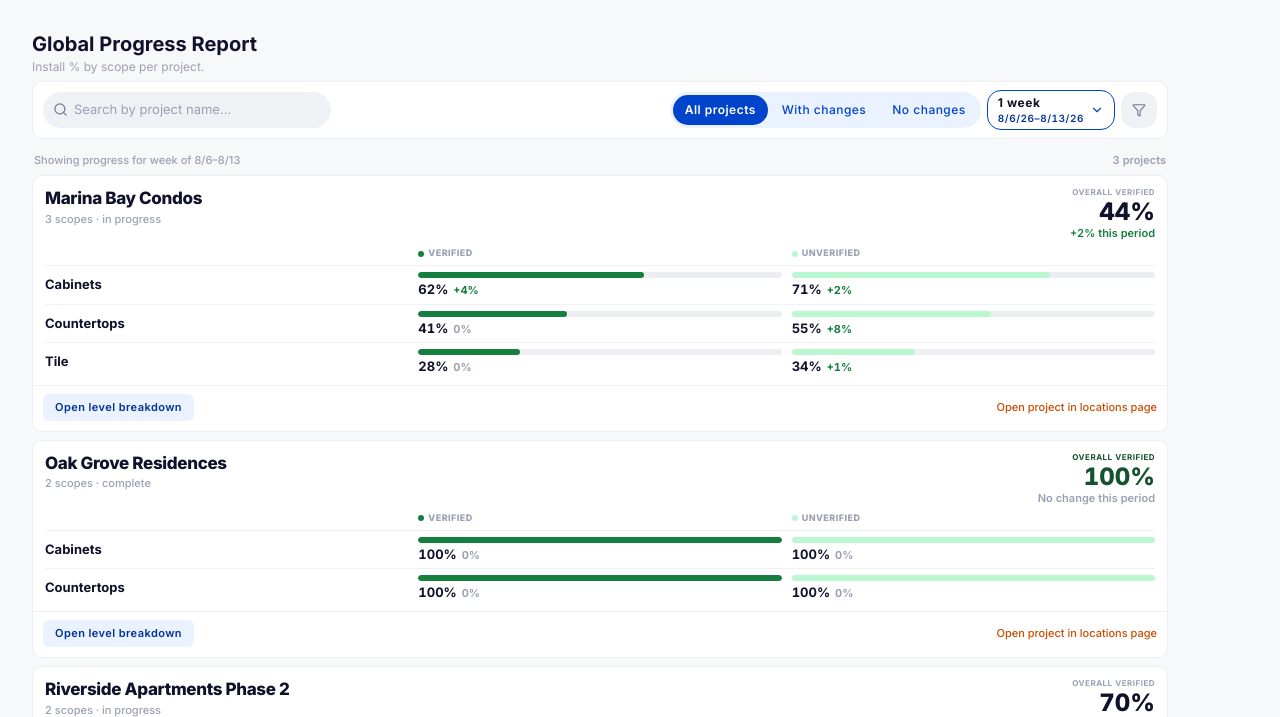
Test case: PortfolioProgressWireframe › clears search with the clear button
Expected: the heading "Marina Bay Condos" is shown, [45,188,202,208]
Type "marina" into the search field named "Search projects" at (196, 110), box [74,100,319,120]
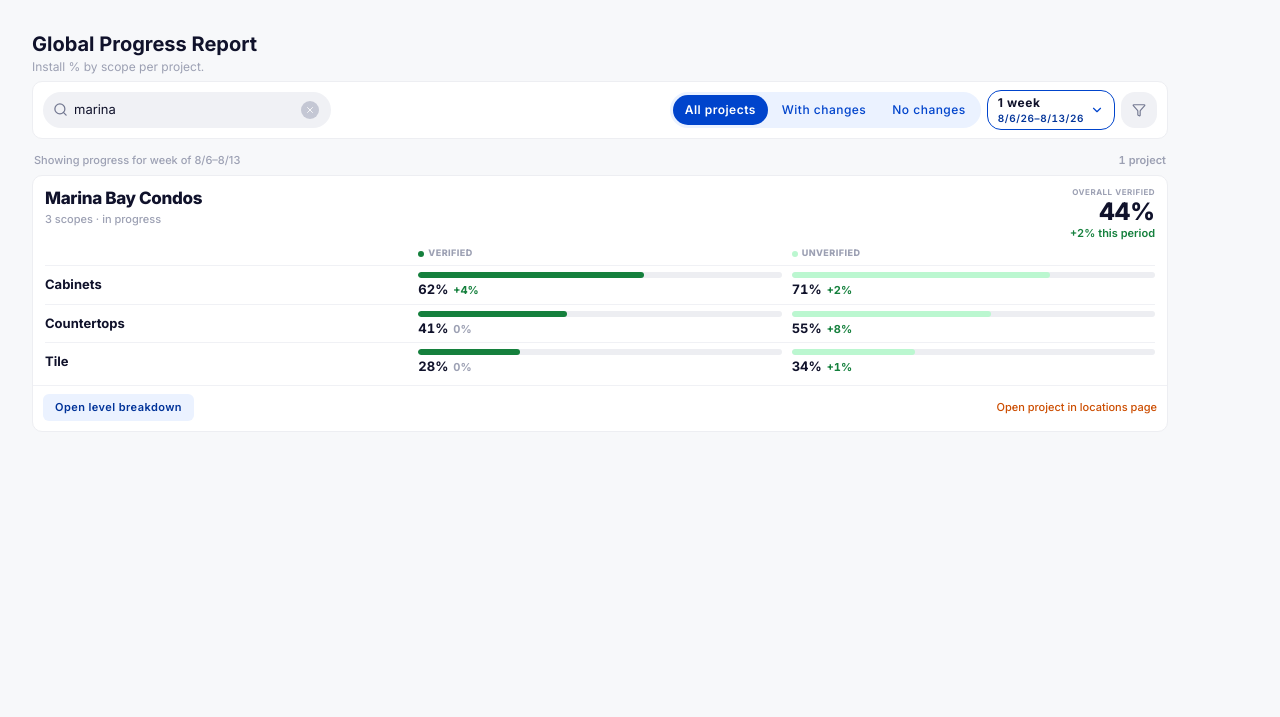
Click the button named "Clear search" at (310, 110), box [301,101,319,119]
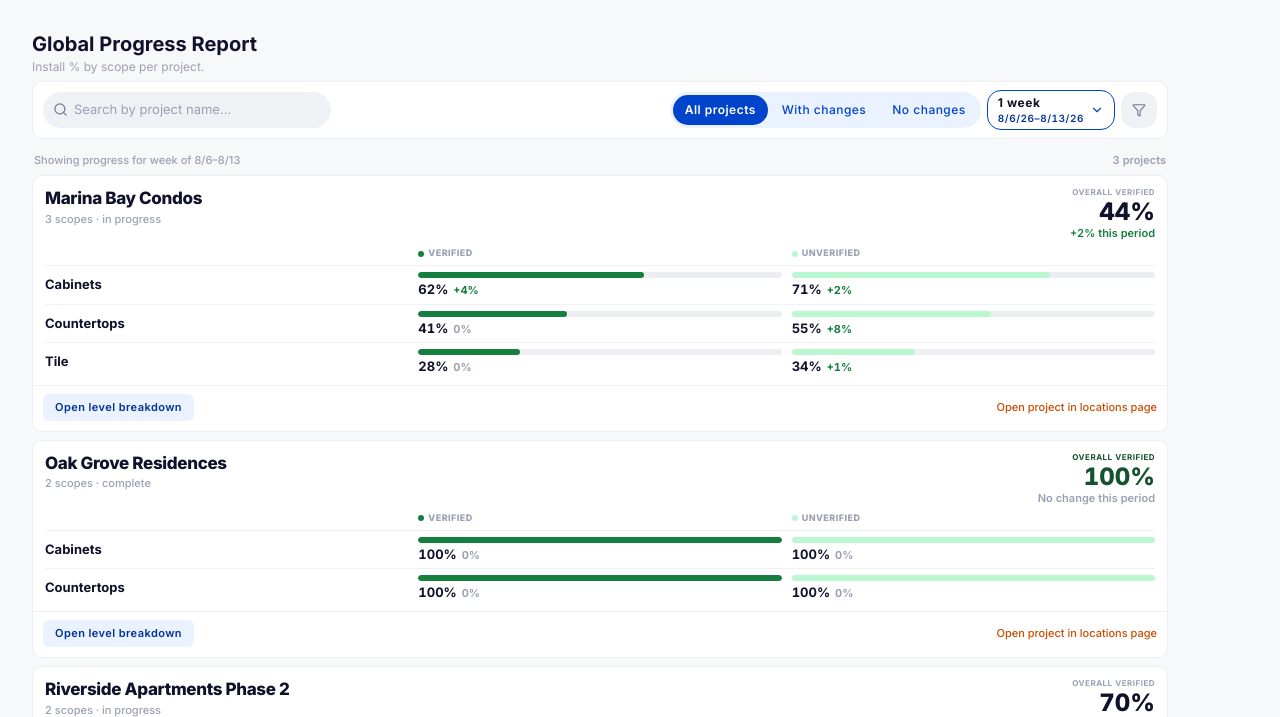
Expected: the heading "Oak Grove Residences" is shown, [45,453,227,473]
